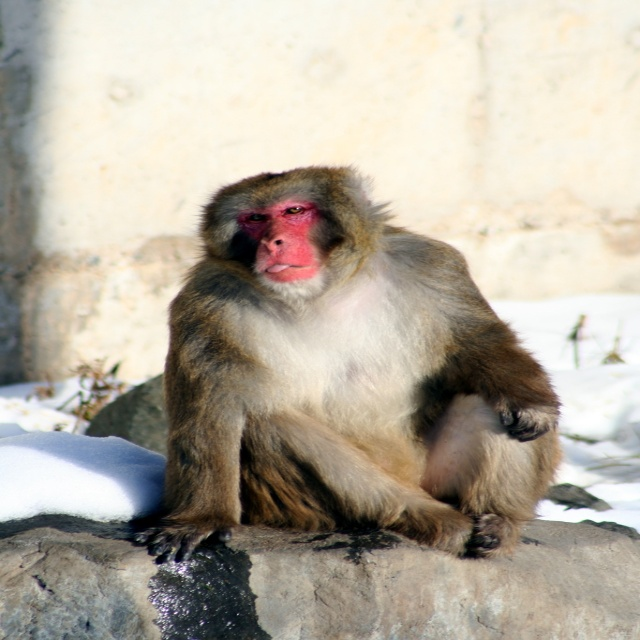Monkey: (133, 161, 562, 562)
